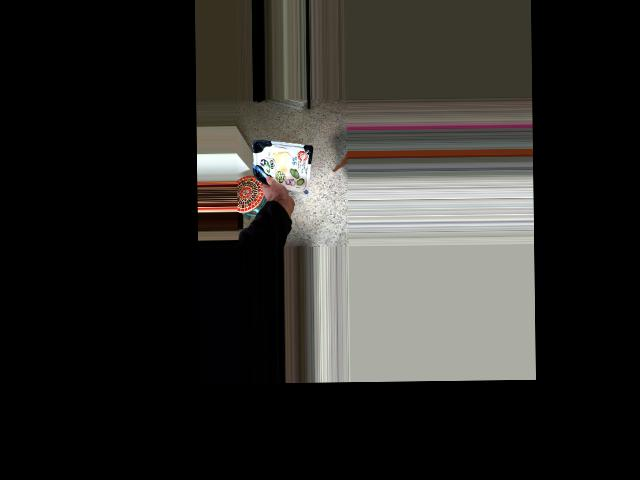cheese: (261, 156, 312, 203)
